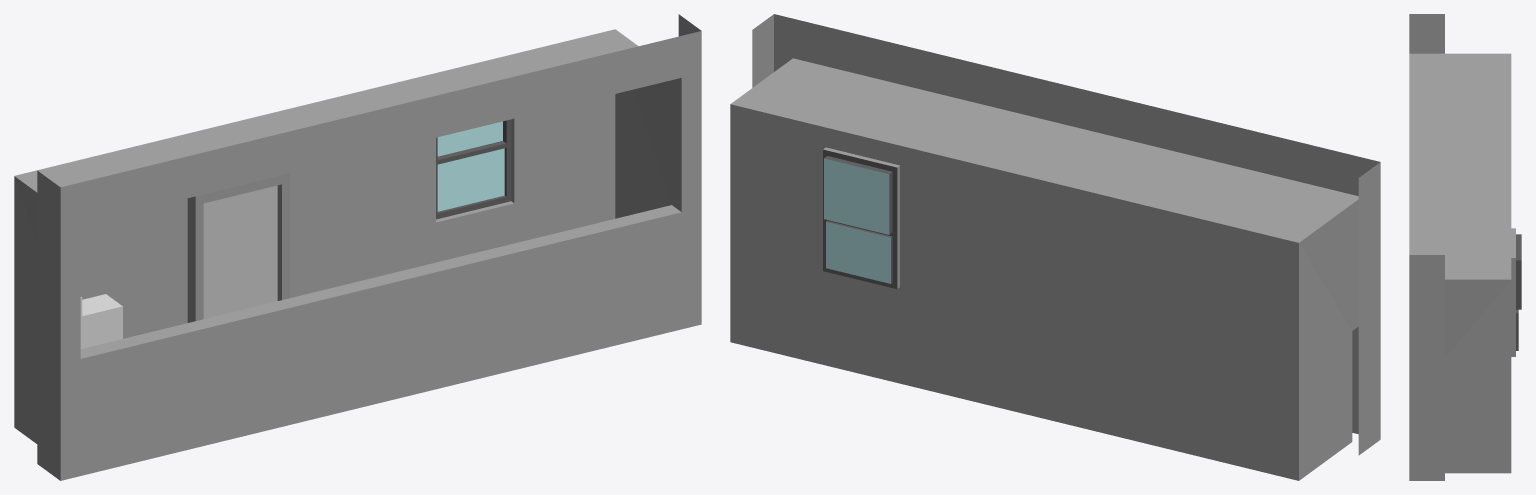
File: Balcony.fbx
3 renders of one model, left to right at view 1: azimuth 30°, elevation 25°; view 2: azimuth 150°, elevation 25°; view 3: azimuth 270°, elevation 25°, orthographic. The views are drawn at different scales.
Visible parts, largest first — view 1: Balcony; view 2: Balcony; view 3: Balcony.
Boxes of the visible parts, x1=… form: Balcony: x1=14, y1=14, x2=701, y2=480; Balcony: x1=730, y1=14, x2=1380, y2=480; Balcony: x1=1409, y1=14, x2=1521, y2=480.
Bounding box in the file's own units: 800 × 350 × 158.
